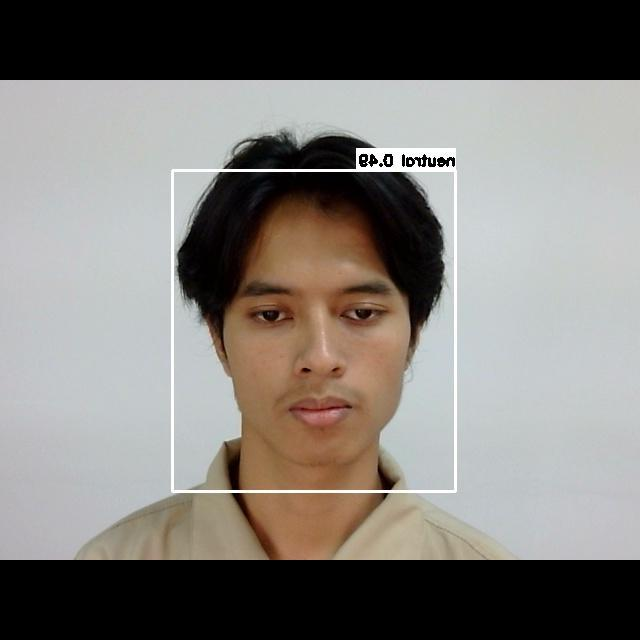Natural: (221, 251, 433, 475)
